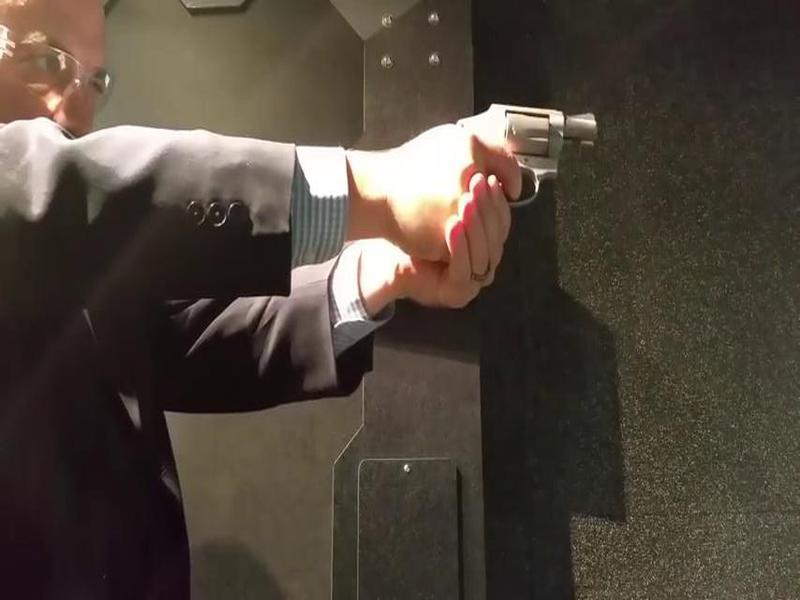Revolver: (440, 90, 611, 217)
